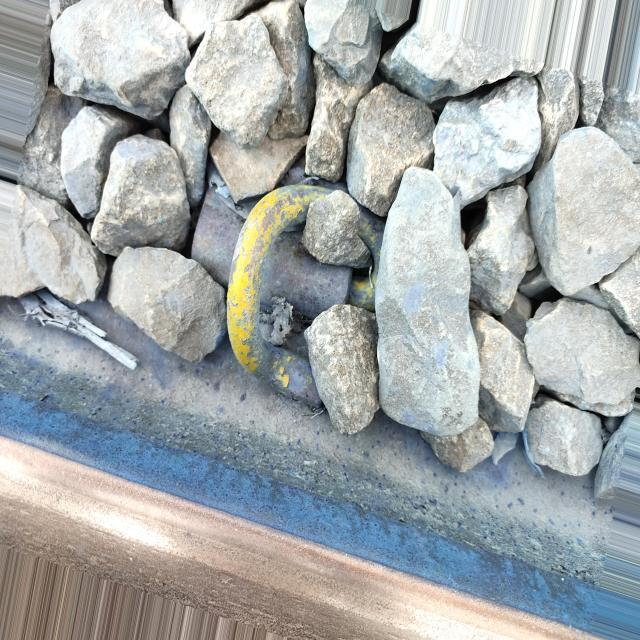Good Fasteners: (143, 119, 464, 440)
